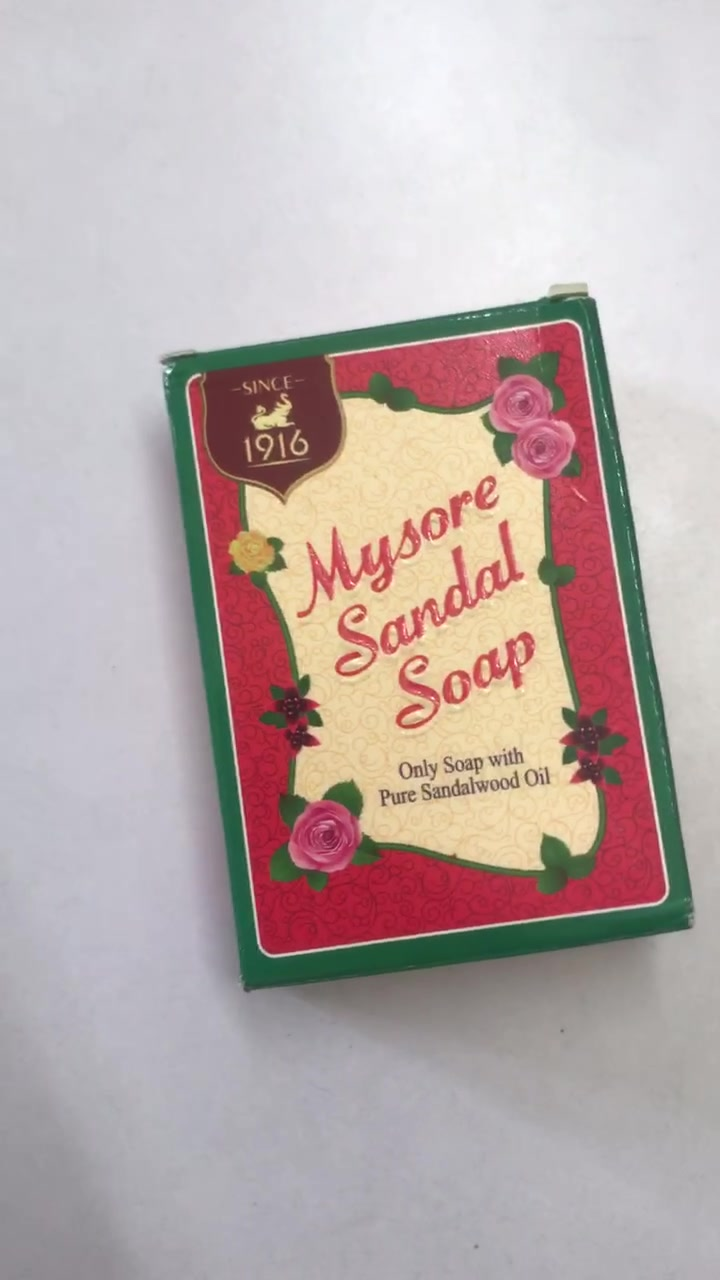mysore sandal soap: (159, 303, 688, 989)
